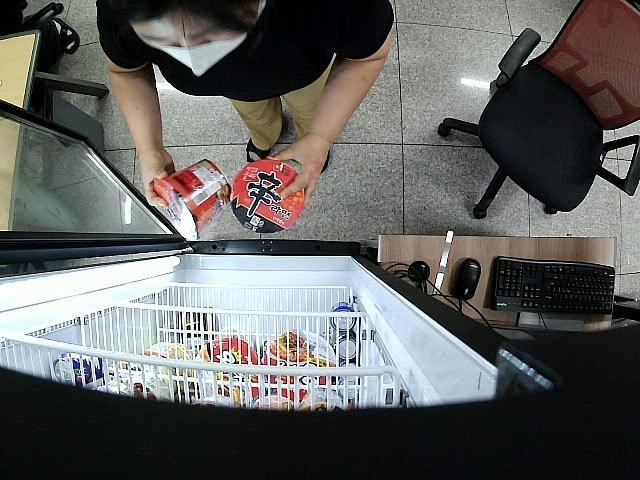01_ShinRamen_L: (150, 158, 230, 238), (230, 157, 306, 234)
